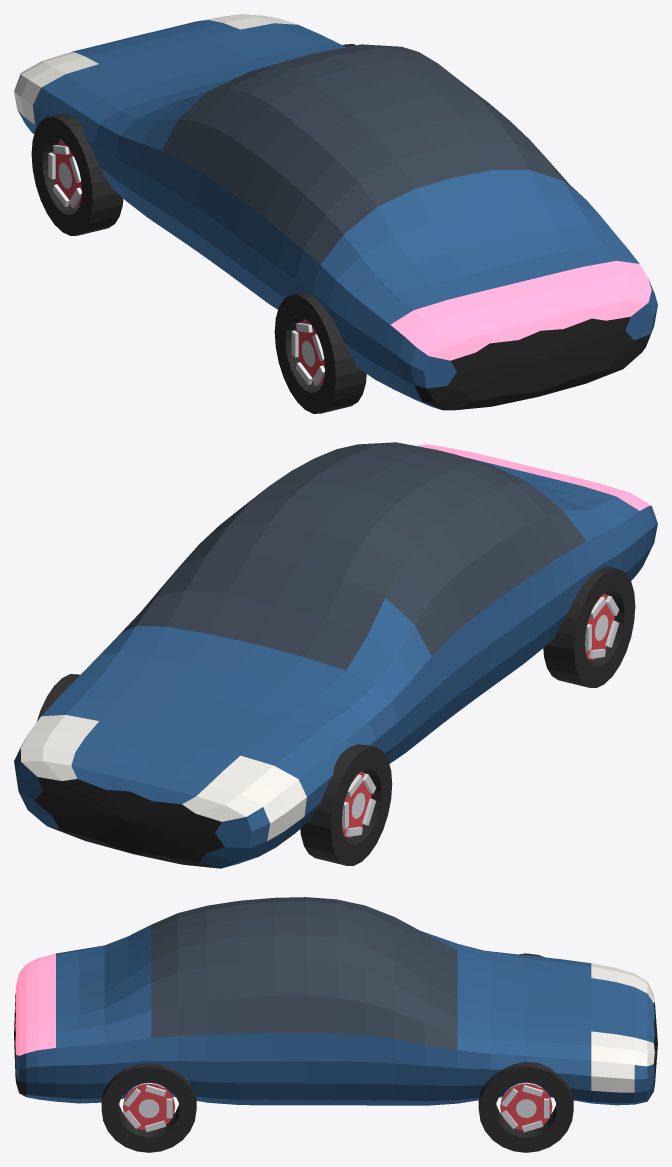
File: Vehicle_Taxi_Hue.fbx
3 views of the same model, one above another, from view 1: azimuth 30°, elevation 25°; view 2: azimuth 150°, elevation 25°; view 3: azimuth 270°, elevation 25° (orthographic). The views are drawn at different scales.
Parts seen in each view (by area): view 1: Car_Sedan_01, Wheel_RL, Wheel_FL; view 2: Car_Sedan_01, Wheel_FL, Wheel_RL; view 3: Car_Sedan_01, Wheel_FR, Wheel_RR.
Part boxes in pixels (bbox=[...]): Car_Sedan_01: bbox=[14, 14, 657, 410]; Wheel_RL: bbox=[274, 293, 366, 413]; Wheel_FL: bbox=[31, 113, 123, 235]; Car_Sedan_01: bbox=[14, 442, 657, 868]; Wheel_FL: bbox=[300, 744, 392, 865]; Wheel_RL: bbox=[543, 567, 635, 687]; Car_Sedan_01: bbox=[14, 897, 657, 1105]; Wheel_FR: bbox=[478, 1061, 573, 1152]; Wheel_RR: bbox=[101, 1063, 196, 1152].
Bounding box in the file's own units: 1.92 × 1.43 × 4.61.
